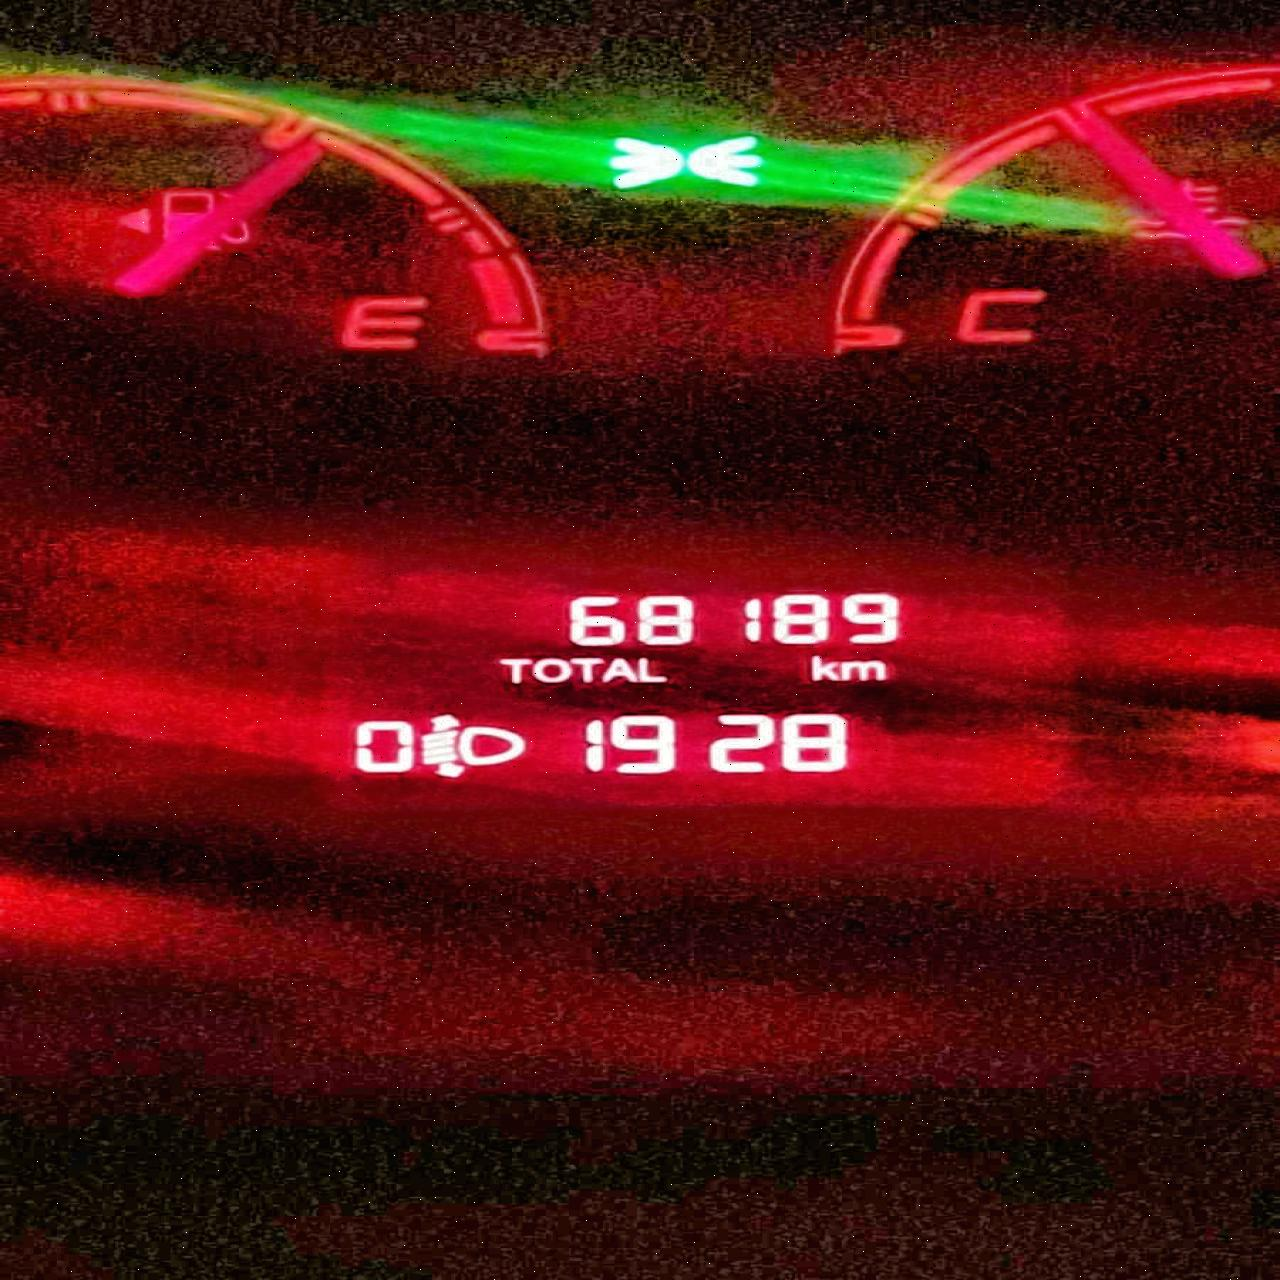0: (350, 716, 418, 775)
1: (577, 716, 606, 774), (740, 592, 765, 646)
2: (708, 712, 774, 774)
6: (565, 594, 627, 647)
8: (779, 710, 853, 774), (636, 591, 697, 648), (772, 591, 832, 645)
9: (607, 712, 681, 776), (840, 588, 904, 645)
X: (634, 655, 673, 682), (840, 659, 887, 680), (532, 656, 568, 681), (808, 653, 839, 681), (605, 656, 638, 683), (496, 656, 529, 683), (570, 655, 601, 682)
odometer: (275, 559, 1125, 831)
